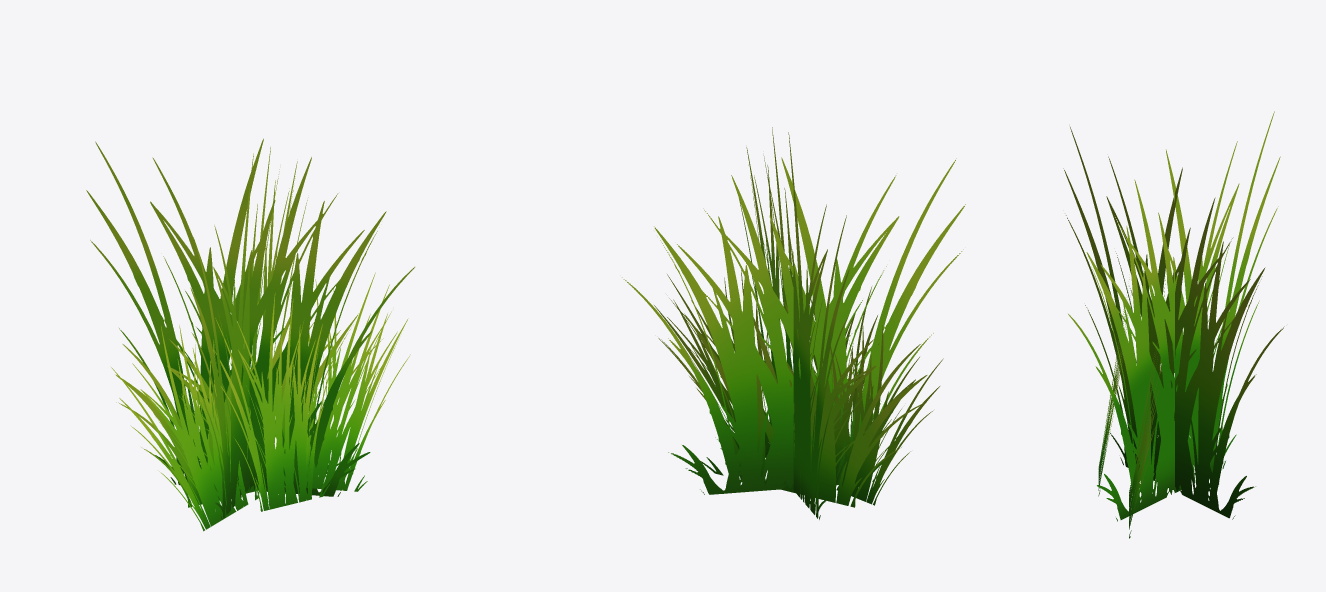
File: weed-large.fbx
3 views of the same model, side by side, from view 1: azimuth 30°, elevation 25°; view 2: azimuth 150°, elevation 25°; view 3: azimuth 270°, elevation 25° (orthographic).
Parts seen in each view (by area): view 1: Large-weed; view 2: Large-weed; view 3: Large-weed.
Boxes of the visible parts, <box> form: Large-weed: <box>86,138,414,531</box>; Large-weed: <box>622,127,965,519</box>; Large-weed: <box>1063,111,1284,538</box>.
Bounding box in the file's own units: 330 × 294 × 163.
1 material, 1 textured.
